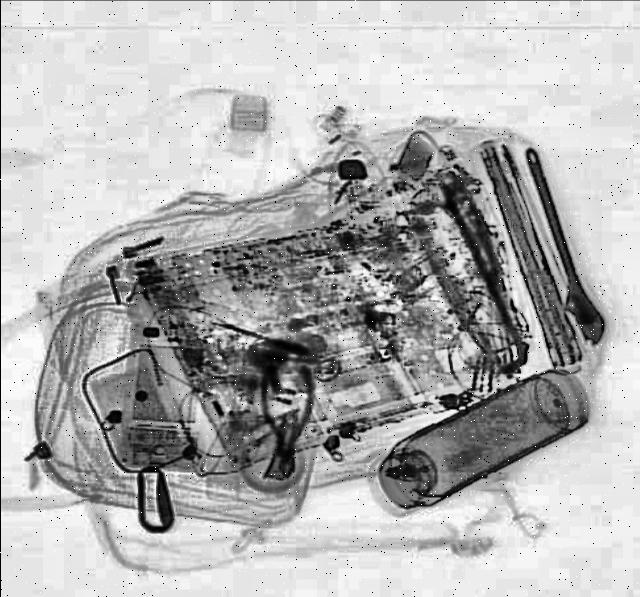Pliers: (256, 366, 312, 478)
Wrench: (509, 142, 609, 348)
